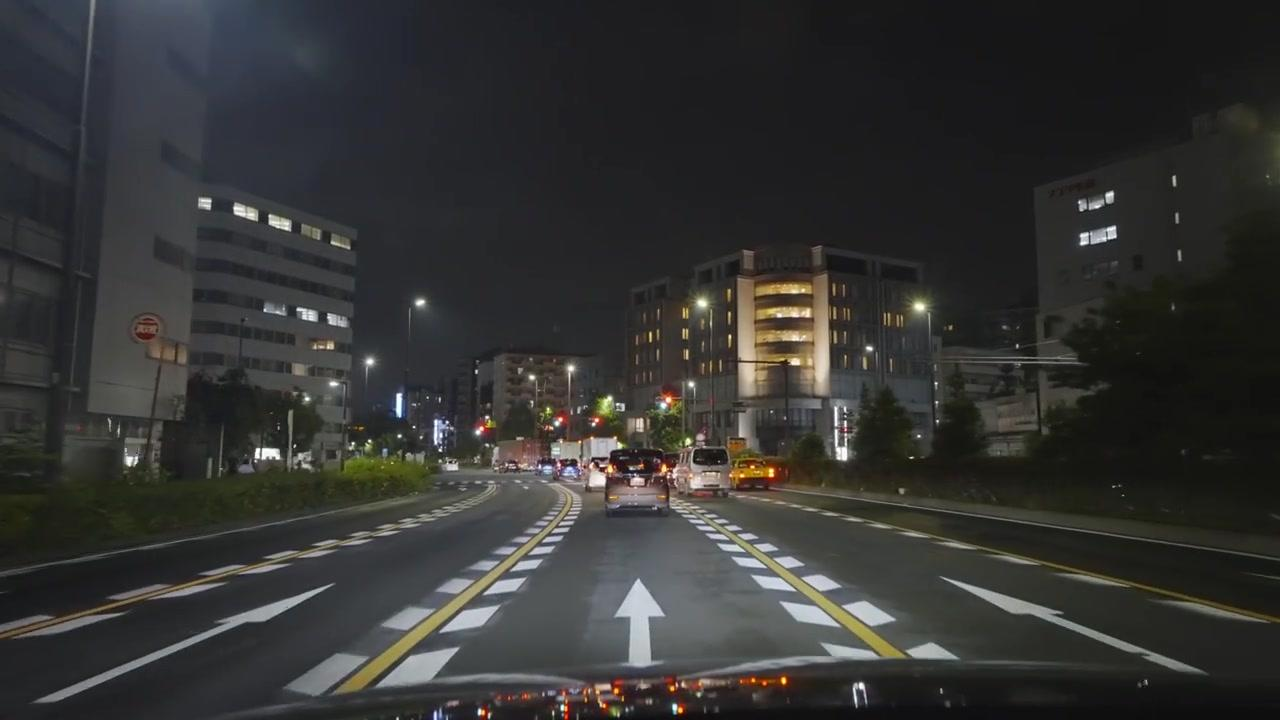car: (604, 447, 671, 518), (675, 446, 733, 500), (730, 458, 776, 491), (559, 461, 581, 480), (537, 460, 556, 478)
traffic light: (474, 422, 486, 436)
truck: (604, 447, 672, 517), (682, 446, 733, 499)
